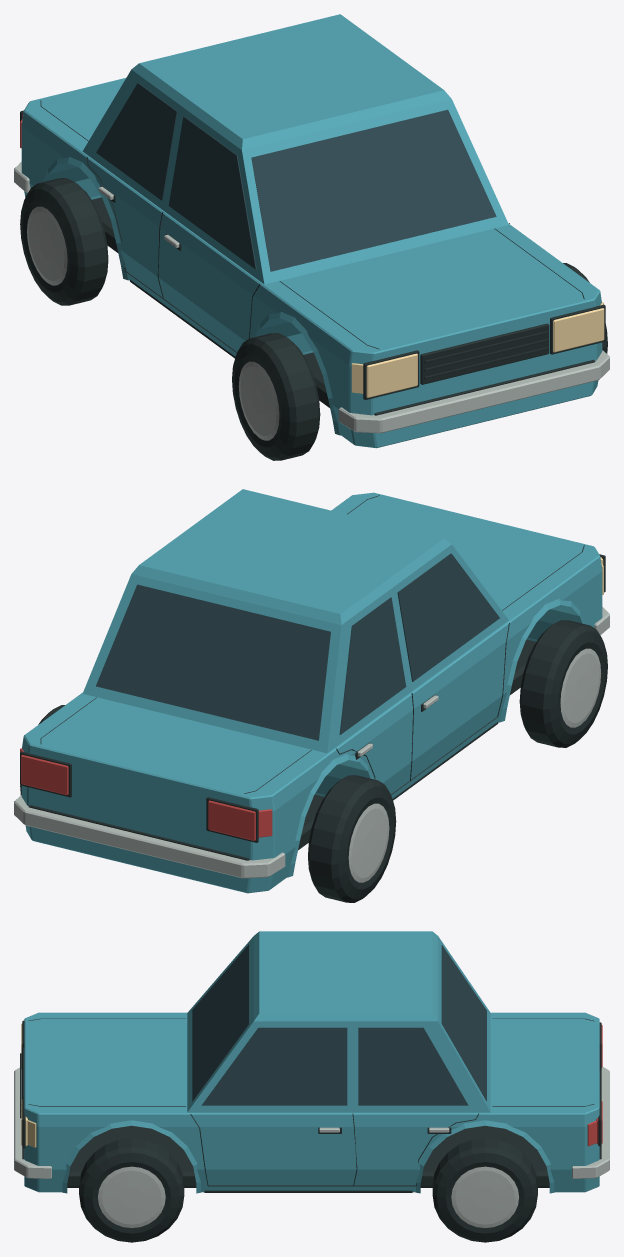
Rendered from asset.glb.
3 views of the same model, one above another, from view 1: azimuth 30°, elevation 25°; view 2: azimuth 150°, elevation 25°; view 3: azimuth 270°, elevation 25° (orthographic). The views are drawn at different scales.
Parts seen in each view (by area): view 1: Body_ThreeBox_LowerShell, Cabin_Painted_Pillars_Roof, Glass_Windshield, wheel_rl, wheel_fl, Glass_Front_L, Glass_Rear_L, Bumper_Front, Grille_Dark, Headlight_L, Headlight_R, Underbody_Recessed (+3 smaller); view 2: Body_ThreeBox_LowerShell, Cabin_Painted_Pillars_Roof, Glass_RearWindow, wheel_fl, wheel_rl, Glass_Front_L, Glass_Rear_L, Bumper_Rear, Taillight_L, Taillight_R, Underbody_Recessed, Arch_Fold_Front_L (+2 smaller); view 3: Body_ThreeBox_LowerShell, Cabin_Painted_Pillars_Roof, Glass_Front_R, wheel_fr, wheel_rr, Glass_Rear_R, Glass_Windshield, Underbody_Recessed, Glass_RearWindow, Bumper_Rear, Bumper_Front, Arch_Fold_Front_R (+2 smaller).
Boxes of the visible parts, bbox=[...] form: Body_ThreeBox_LowerShell: bbox=[21, 78, 602, 448]; Cabin_Painted_Pillars_Roof: bbox=[82, 14, 508, 284]; Glass_Windshield: bbox=[251, 109, 496, 271]; wheel_rl: bbox=[20, 178, 108, 305]; wheel_fl: bbox=[232, 333, 320, 460]; Glass_Front_L: bbox=[168, 116, 256, 269]; Glass_Rear_L: bbox=[96, 83, 177, 200]; Bumper_Front: bbox=[338, 350, 609, 433]; Grille_Dark: bbox=[420, 323, 549, 384]; Headlight_L: bbox=[366, 353, 417, 397]; Headlight_R: bbox=[553, 308, 604, 352]; Underbody_Recessed: bbox=[92, 197, 329, 407]; Body_ThreeBox_LowerShell: bbox=[21, 492, 602, 893]; Cabin_Painted_Pillars_Roof: bbox=[82, 489, 508, 753]; Glass_RearWindow: bbox=[96, 584, 330, 740]; wheel_fl: bbox=[519, 620, 607, 747]; wheel_rl: bbox=[308, 775, 396, 902]; Glass_Front_L: bbox=[397, 553, 499, 681]; Glass_Rear_L: bbox=[339, 597, 406, 734]; Bumper_Rear: bbox=[14, 795, 285, 878]; Taillight_L: bbox=[208, 800, 258, 840]; Taillight_R: bbox=[21, 754, 68, 795]; Underbody_Recessed: bbox=[298, 639, 535, 850]; Arch_Fold_Front_L: bbox=[499, 599, 584, 722]; Body_ThreeBox_LowerShell: bbox=[24, 1012, 599, 1192]; Cabin_Painted_Pillars_Roof: bbox=[187, 931, 490, 1112]; Glass_Front_R: bbox=[201, 1027, 347, 1105]; wheel_fr: bbox=[79, 1138, 184, 1242]; wheel_rr: bbox=[432, 1138, 537, 1242]; Glass_Rear_R: bbox=[358, 1027, 468, 1105]; Glass_Windshield: bbox=[192, 944, 249, 1101]; Underbody_Recessed: bbox=[67, 1125, 549, 1187]; Glass_RearWindow: bbox=[441, 945, 486, 1101]; Bumper_Rear: bbox=[572, 1067, 609, 1178]; Bumper_Front: bbox=[14, 1067, 51, 1178]; Arch_Fold_Front_R: bbox=[62, 1120, 201, 1193].
Size of the model in its own units: 2.25 by 1.65 by 4.3.
